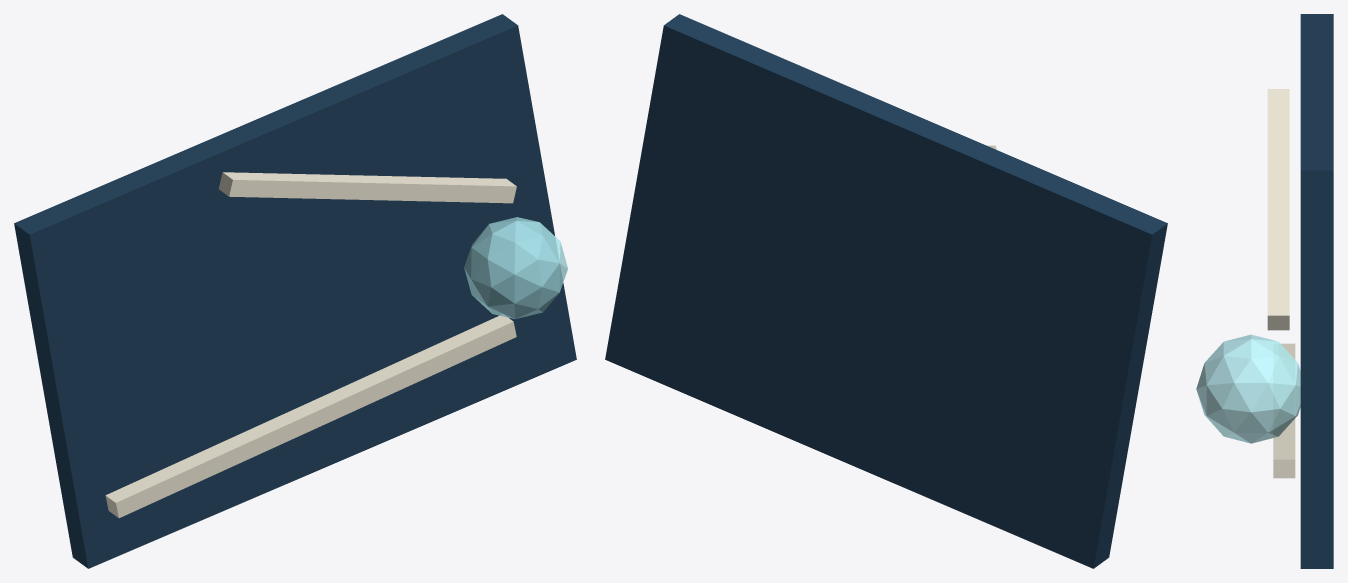
The model's file is 02_world_prop_polish.glb.
3 views of the same model, side by side, from view 1: azimuth 30°, elevation 25°; view 2: azimuth 150°, elevation 25°; view 3: azimuth 270°, elevation 25° (orthographic). The views are drawn at different scales.
Parts seen in each view (by area): view 1: object_overlay_plate, edge_wear_a, glow_socket, edge_wear_b; view 2: object_overlay_plate; view 3: object_overlay_plate, glow_socket, edge_wear_b, edge_wear_a.
Part boxes in pixels (box(x1,y1,x2,y2)): object_overlay_plate: box(14, 14, 576, 568); edge_wear_a: box(105, 315, 516, 518); glow_socket: box(464, 217, 567, 319); edge_wear_b: box(219, 172, 516, 203); object_overlay_plate: box(605, 14, 1167, 568); object_overlay_plate: box(1300, 14, 1333, 568); glow_socket: box(1196, 334, 1300, 443); edge_wear_b: box(1267, 89, 1289, 330); edge_wear_a: box(1273, 343, 1295, 478).
Bounding box in the file's own units: 1.21 × 0.9296 × 0.25.
